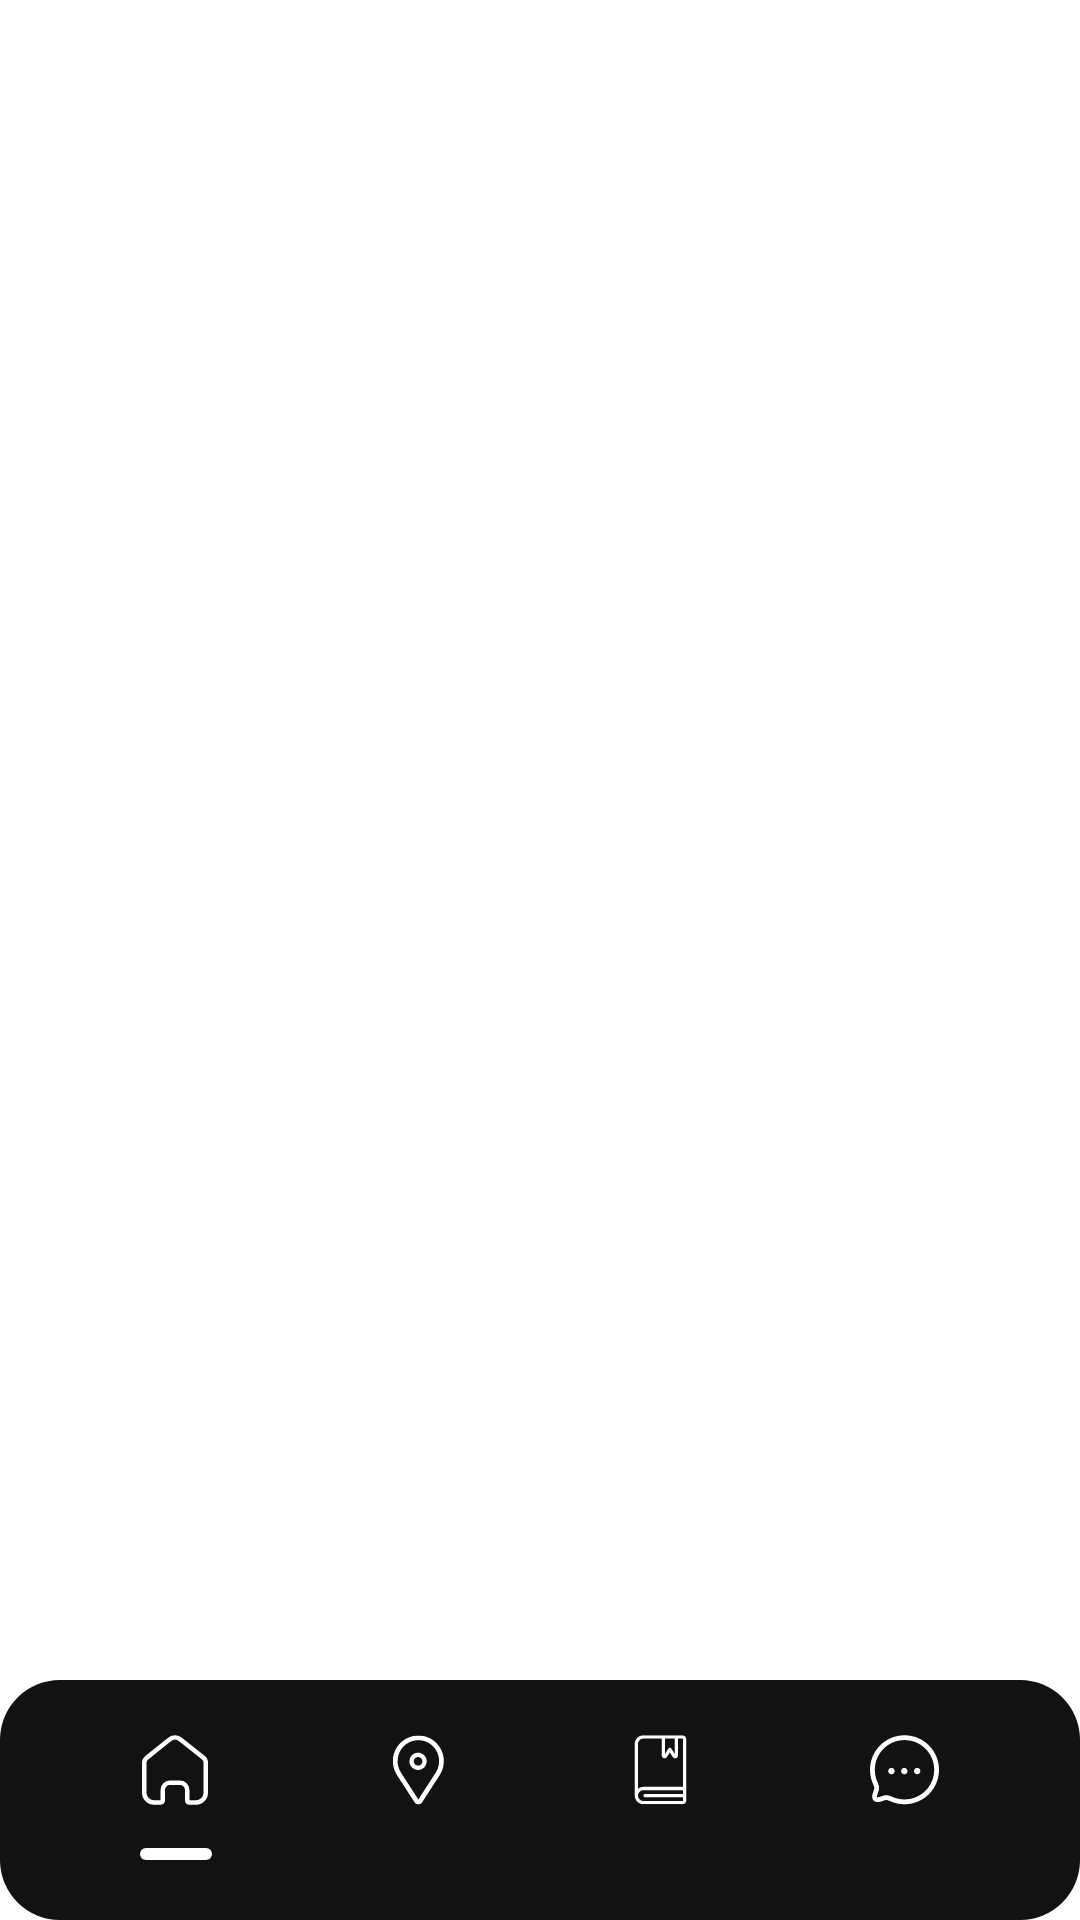

Icon click points for this 1080 x 1920 phone screenshot, format (x=x, y=y):
discuss: (x=904, y=1770)
home: (x=175, y=1770)
location: (x=418, y=1770)
